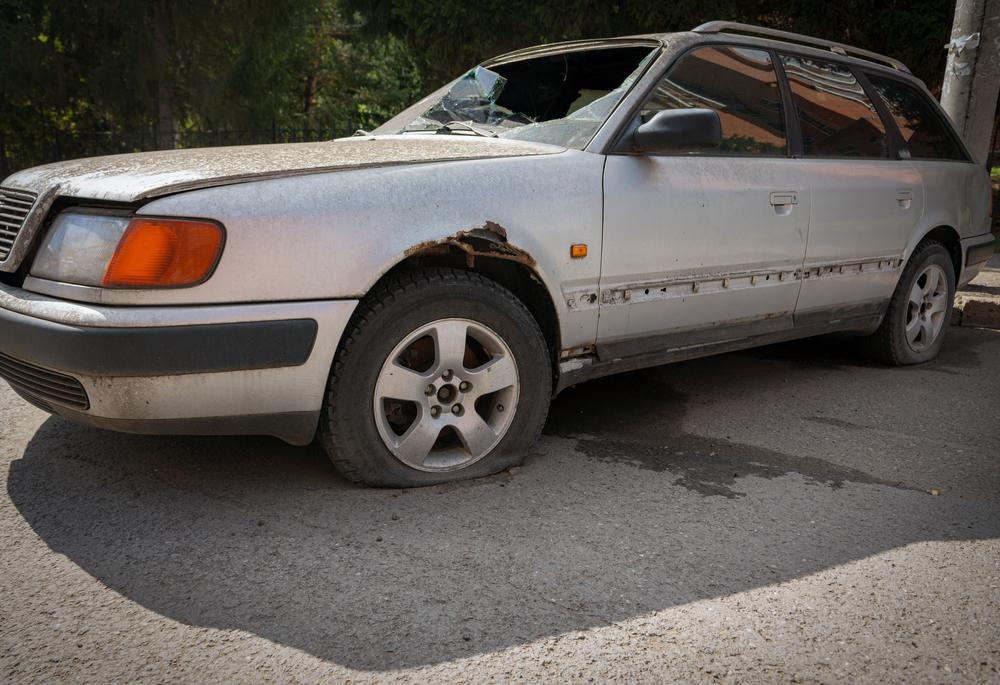crack: (454, 227, 522, 258)
glass shatter: (401, 39, 660, 148)
tire flat: (317, 268, 552, 486), (870, 243, 955, 368)
